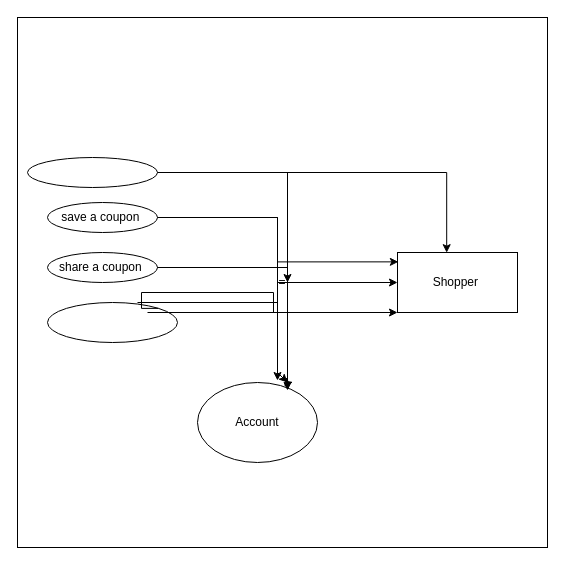
The diagram is 565 pixels wide and 565 high, and some of its shapes have lost their labels. Here are the shapes that lost their labels. From the top down, the box of each, then its label:
(26, 156, 158, 188): Gathering coupons
(46, 302, 178, 342): connects to grocery store
